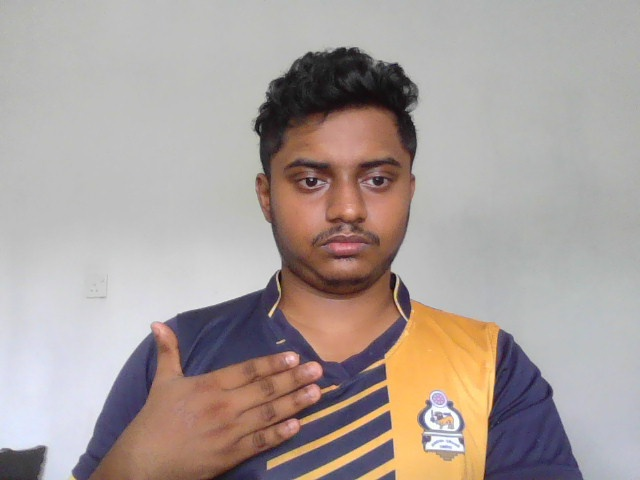Please: (144, 320, 324, 476)
